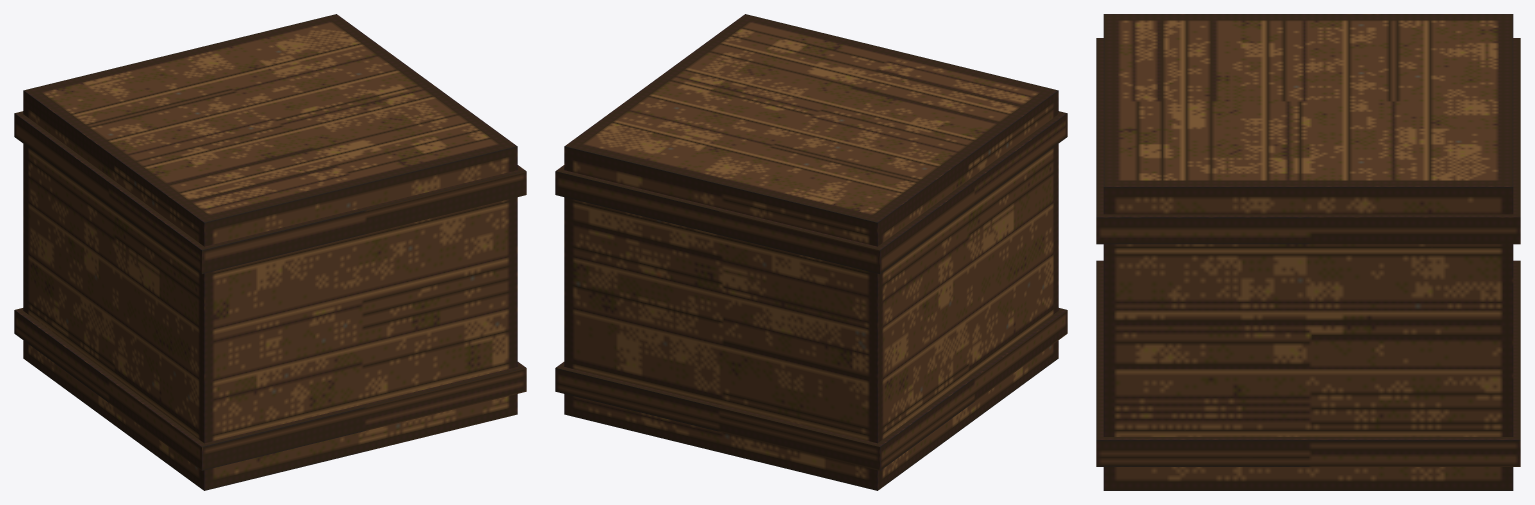
Rendered from SM_Crate_Wood_01.fbx.
3 views of the same model, side by side, from view 1: azimuth 30°, elevation 25°; view 2: azimuth 150°, elevation 25°; view 3: azimuth 270°, elevation 25° (orthographic). The views are drawn at different scales.
Visible parts, largest first — view 1: SM_Crate_Wood_01; view 2: SM_Crate_Wood_01; view 3: SM_Crate_Wood_01.
Part boxes in pixels (x1,y1,x2,y2): SM_Crate_Wood_01: (14,14,526,490); SM_Crate_Wood_01: (555,14,1067,490); SM_Crate_Wood_01: (1096,14,1520,490).
Bounding box in the file's own units: 0.57 × 0.45 × 0.57.
Materials: 1 (1 with a texture image).
